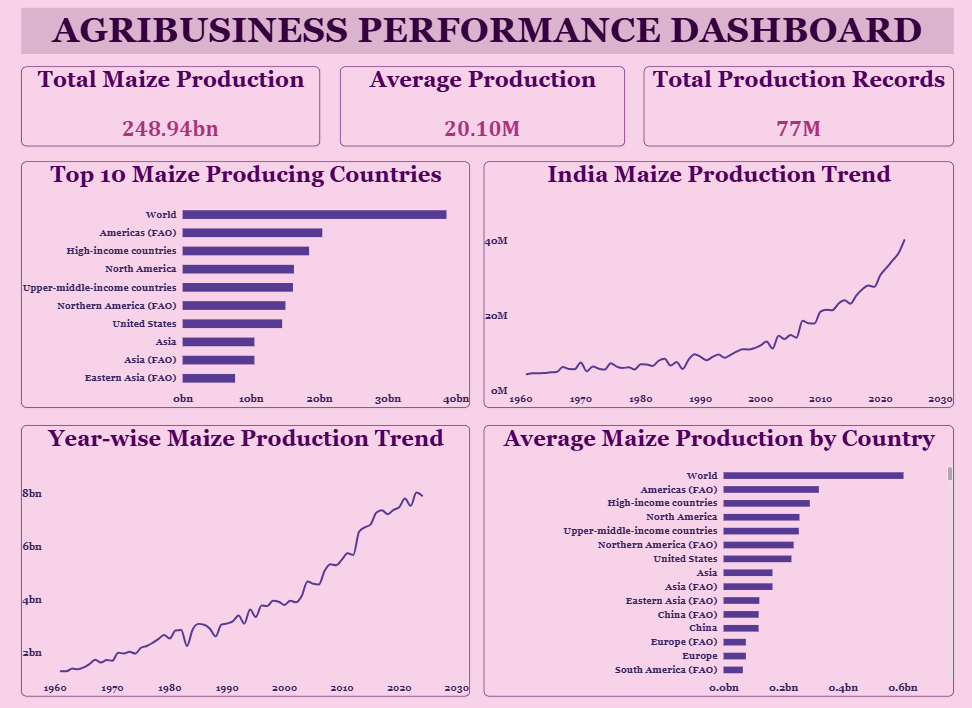

The page's visual inventory and layout, read from the dashboard file:
{"tool":"powerbi","page":{"name":"Page 1","canvas":[1920,1080],"ordinal":0},"visuals":[{"type":"cardVisual","title":"Total Maize Production","fields":{"Data":["Sum(public crop_production.production_tonnes)"]},"box":[295.3,101.5,449.5,120.4],"z":0},{"type":"cardVisual","title":"Average Production","fields":{"Data":["Avg(public crop_production.production_tonnes)"]},"box":[774.9,101.5,428.8,120.4],"z":1000},{"type":"cardVisual","title":"Total Production Records","fields":{"Data":["CountNonNull(public crop_production.production_id)"]},"box":[1232,101.5,466.5,120.4],"z":2000},{"type":"clusteredBarChart","title":"Top 10 Maize Producing Countries","fields":{"Category":["public countries.country_name"],"Y":["Sum(public crop_production.production_tonnes)"]},"box":[295.3,244.5,675.2,370.5],"z":3000},{"type":"lineChart","title":"Year-wise Maize Production Trend","fields":{"Y":["Sum(public crop_production.production_tonnes)"],"Category":["public crop_production.year"]},"box":[295.3,641.3,675.2,408.2],"z":4000},{"type":"lineChart","title":"India Maize Production Trend","fields":{"Y":["Sum(public crop_production.production_tonnes)"],"Category":["public crop_production.year"]},"box":[991.2,244.5,707.2,370.5],"z":5000},{"type":"clusteredBarChart","title":"Average Maize Production by Country","fields":{"Category":["public countries.country_name"],"Y":["Avg(public crop_production.production_tonnes)"]},"box":[991.2,641.3,707.2,408.2],"z":6000},{"type":"textbox","box":[295.3,13.2,1403.1,69.6],"z":7000}]}

Visuals, with their boxes on the page's 1920x1080 design canvas (x1, y1, x2, y2). These are canvas units, not pixel positions in the 972x708 screenshot, which may show the page scaled, cropped or inside an application window:
"Total Maize Production" cardVisual: box(295, 102, 745, 222)
"Average Production" cardVisual: box(775, 102, 1204, 222)
"Total Production Records" cardVisual: box(1232, 102, 1698, 222)
"Top 10 Maize Producing Countries" clusteredBarChart: box(295, 244, 970, 615)
"Year-wise Maize Production Trend" lineChart: box(295, 641, 970, 1050)
"India Maize Production Trend" lineChart: box(991, 244, 1698, 615)
"Average Maize Production by Country" clusteredBarChart: box(991, 641, 1698, 1050)
textbox: box(295, 13, 1698, 83)
